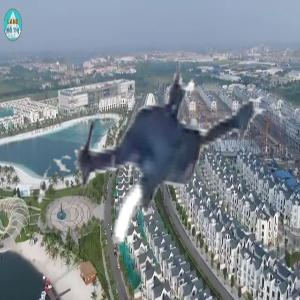drone: (31, 36, 281, 286)
